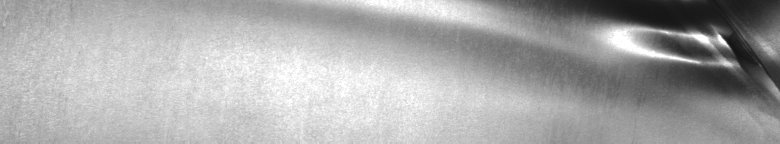ke: (599, 12, 776, 96)
